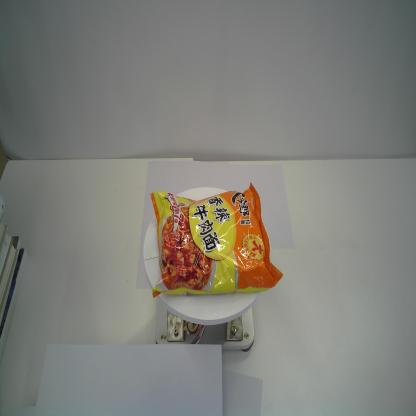Instant Noodles: (149, 181, 284, 302)
